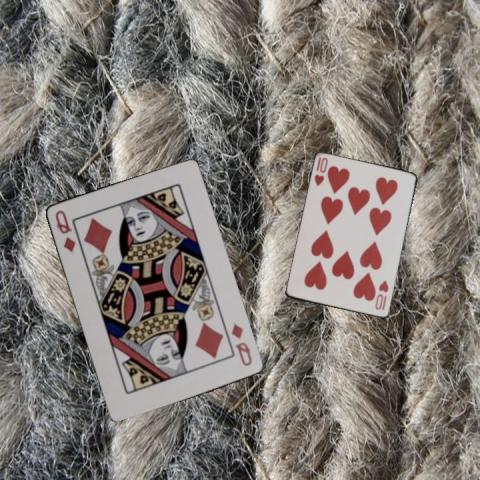10h: (372, 277, 390, 312), (312, 154, 330, 188)
Qd: (228, 320, 254, 367), (52, 207, 77, 253)
